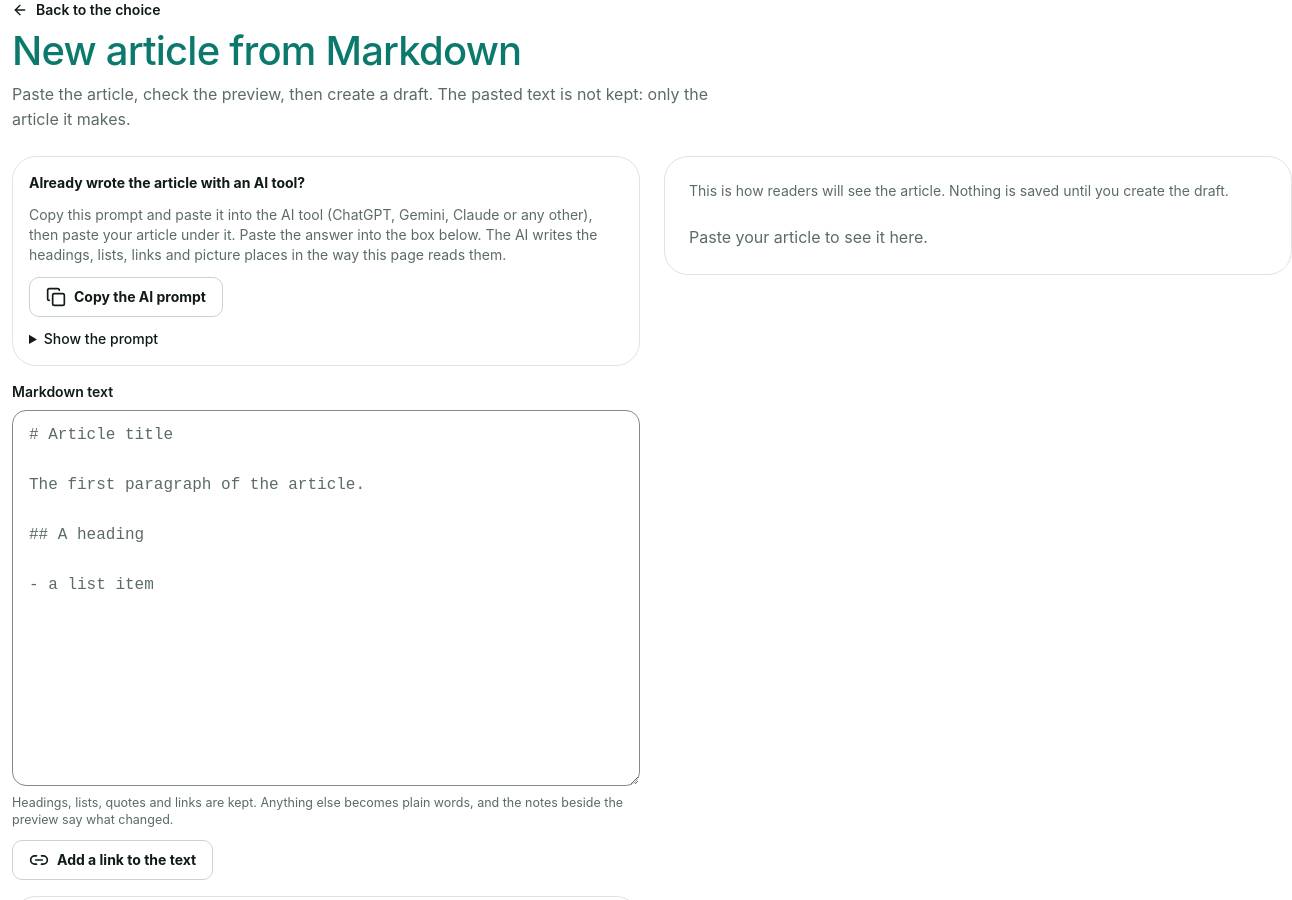
Test: BlogMarkdownFlow: the paste screen (ADR-172) › shows problems that stop the draft, and turns Create draft off
Replace the text in the text box labelled "Markdown text" with "BAD" at (326, 598), box [12,410,640,786]
(page scrolled)
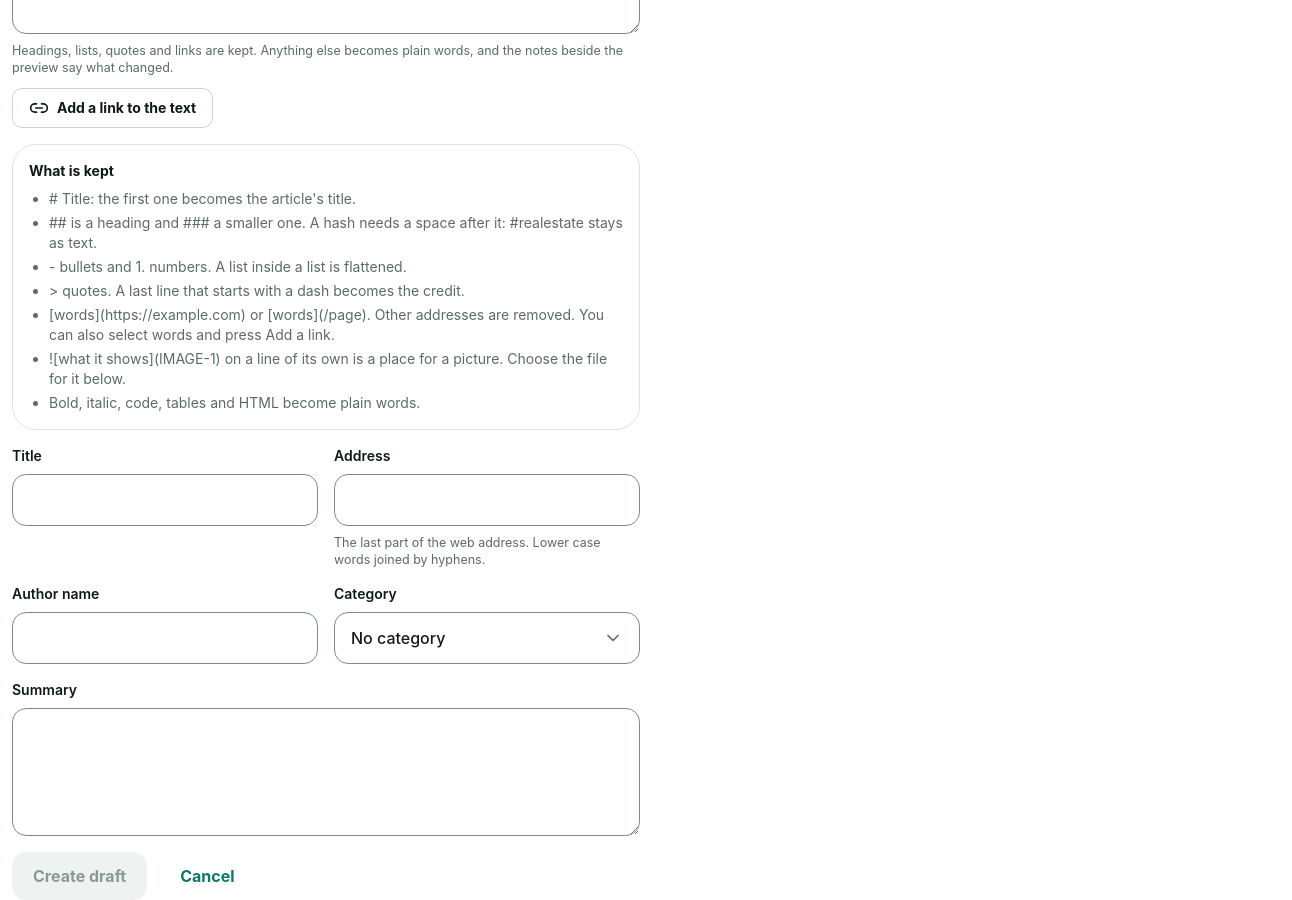
Check: the button "Create draft" is disabled, box [12,852,147,899]
